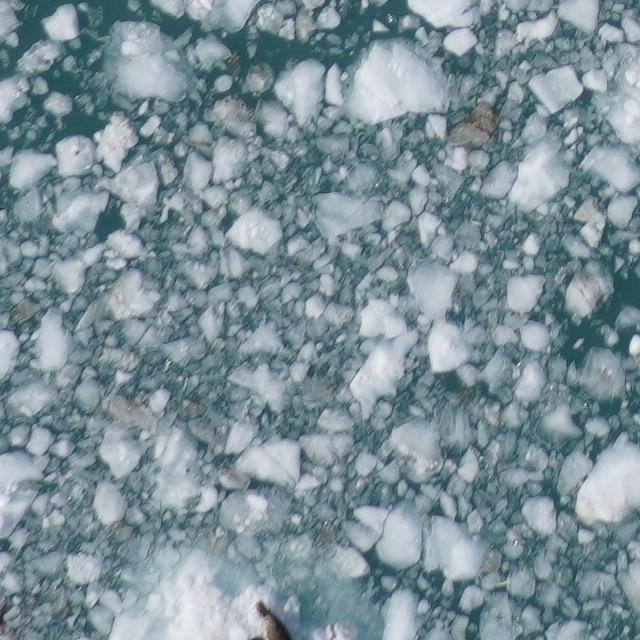seal: (252, 599, 293, 639)
